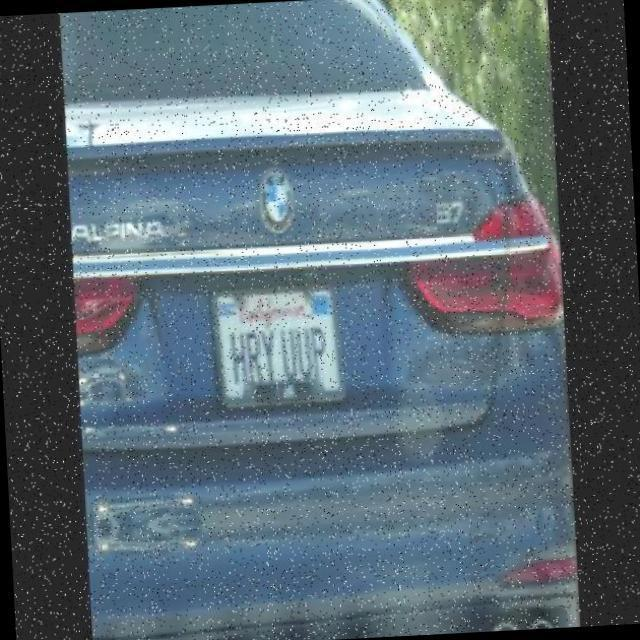License Plate: (215, 280, 341, 408)
